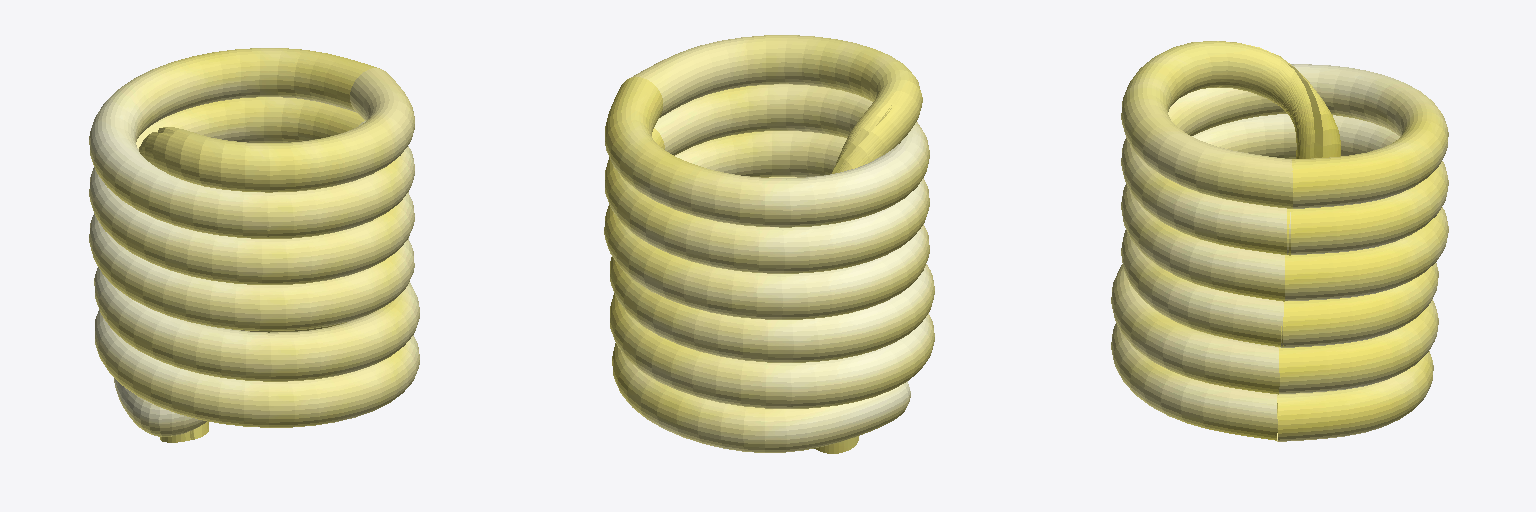
3 renders of one model, left to right at view 1: azimuth 30°, elevation 25°; view 2: azimuth 150°, elevation 25°; view 3: azimuth 270°, elevation 25°, orthographic.
Parts seen in each view (by area): view 1: Lathed_Object_7_4, Lathed_Object_7_1, Lathed_Object_7_3, Lathed_Object_7_5, Lathed_Object_7_2, Lathed_Object_7, Lathed_Object_7_6; view 2: Lathed_Object_7_4, Lathed_Object_7_1, Lathed_Object_7_5, Lathed_Object_7, Lathed_Object_7_2, Lathed_Object_7_3, Lathed_Object_7_6; view 3: Lathed_Object_7_4, Lathed_Object_7_5, Lathed_Object_7_1, Lathed_Object_7_3, Lathed_Object_7_2, Lathed_Object_7, Lathed_Object_7_6.
Boxes of the visible parts, x1=… form: Lathed_Object_7_4: x1=89, y1=48, x2=414, y2=238; Lathed_Object_7_1: x1=89, y1=97, x2=414, y2=284; Lathed_Object_7_3: x1=94, y1=267, x2=419, y2=381; Lathed_Object_7_5: x1=139, y1=68, x2=414, y2=442; Lathed_Object_7_2: x1=95, y1=310, x2=419, y2=427; Lathed_Object_7: x1=89, y1=214, x2=414, y2=330; Lathed_Object_7_6: x1=114, y1=322, x2=346, y2=436; Lathed_Object_7_4: x1=605, y1=77, x2=929, y2=227; Lathed_Object_7_1: x1=605, y1=128, x2=929, y2=273; Lathed_Object_7_5: x1=631, y1=35, x2=922, y2=453; Lathed_Object_7: x1=604, y1=177, x2=929, y2=319; Lathed_Object_7_2: x1=610, y1=293, x2=934, y2=408; Lathed_Object_7_3: x1=610, y1=257, x2=934, y2=362; Lathed_Object_7_6: x1=612, y1=343, x2=910, y2=452; Lathed_Object_7_4: x1=1121, y1=64, x2=1448, y2=255; Lathed_Object_7_5: x1=1121, y1=41, x2=1340, y2=208; Lathed_Object_7_1: x1=1121, y1=114, x2=1448, y2=301; Lathed_Object_7_3: x1=1111, y1=263, x2=1438, y2=394; Lathed_Object_7_2: x1=1111, y1=299, x2=1438, y2=440; Lathed_Object_7: x1=1121, y1=207, x2=1448, y2=346; Lathed_Object_7_6: x1=1277, y1=351, x2=1433, y2=441.
Bounding box in the file's own units: 6.61 × 7.49 × 6.78.
Materials: 1 (1 with a texture image).